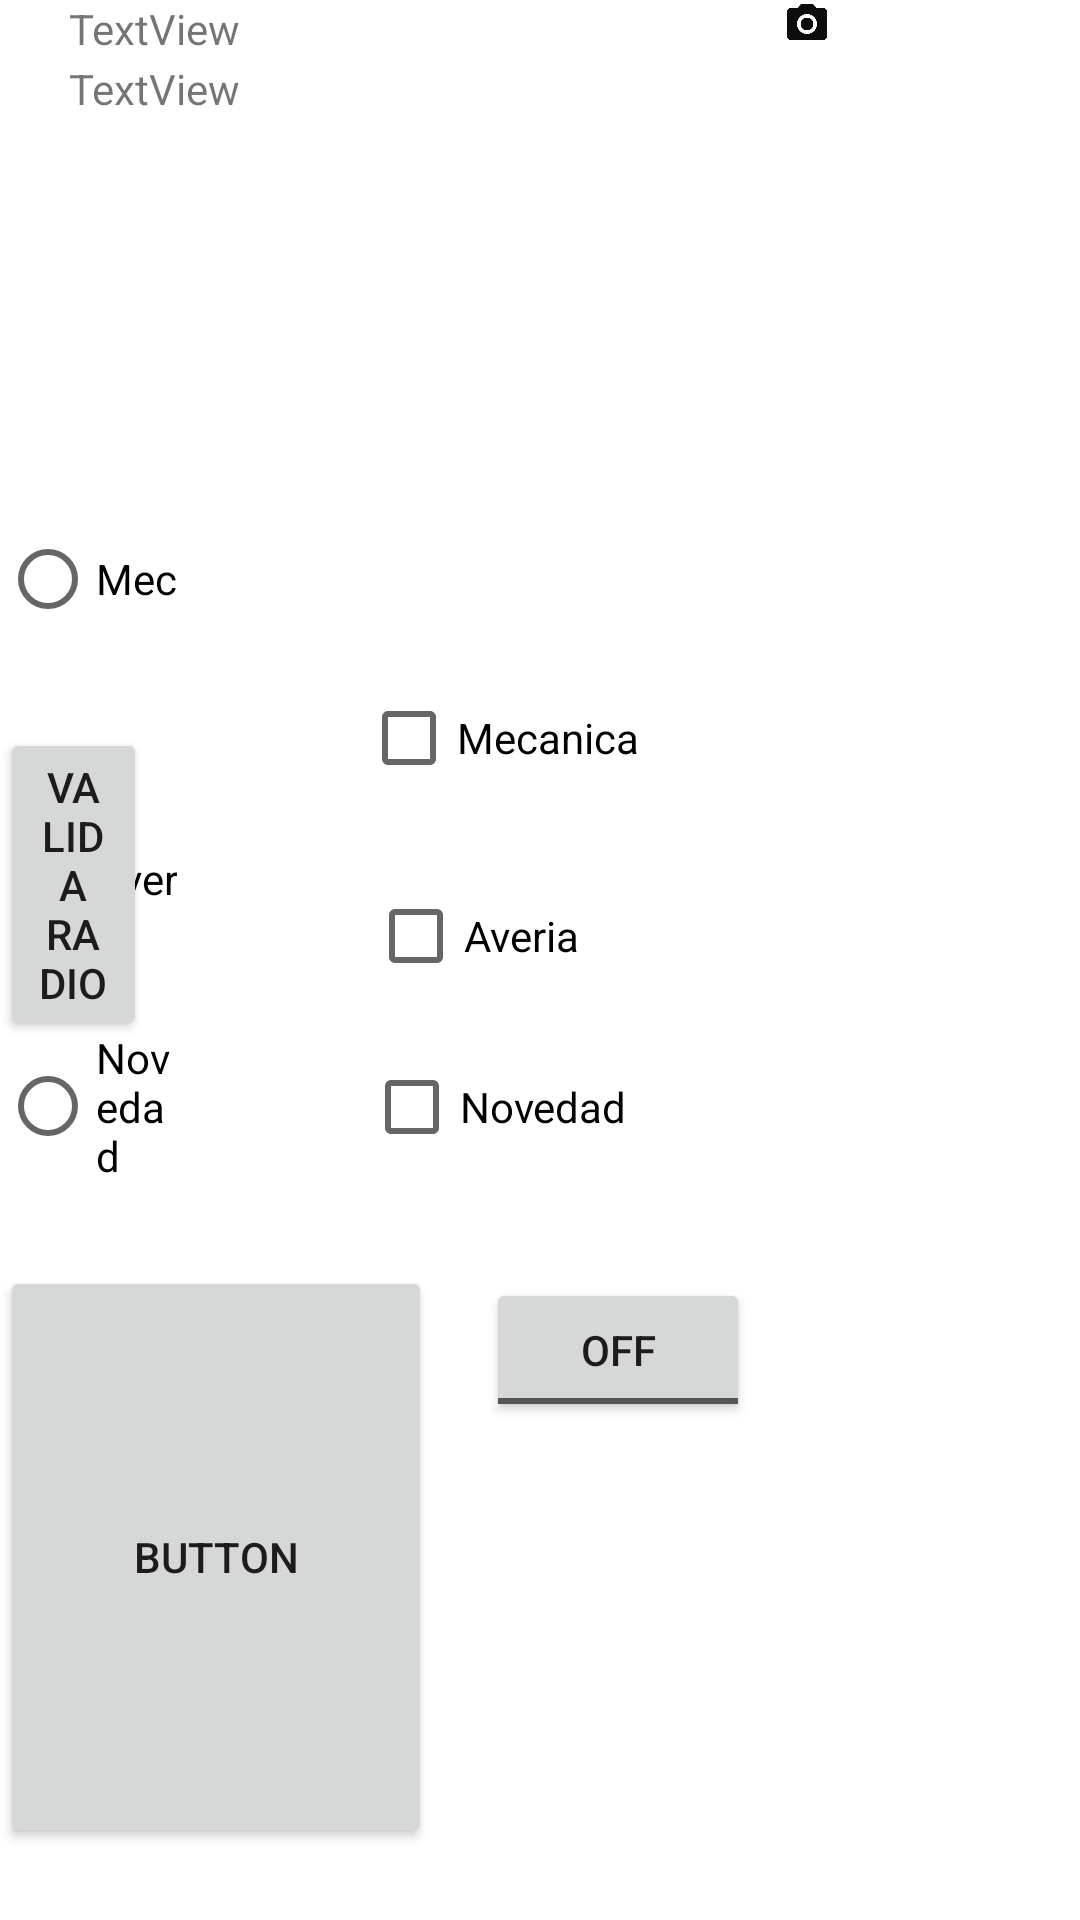

Icon bounding boxes for this 1080x1920 phone screenshot, format (x1, y1, x2, y2):
camera: (787, 4, 827, 40)
